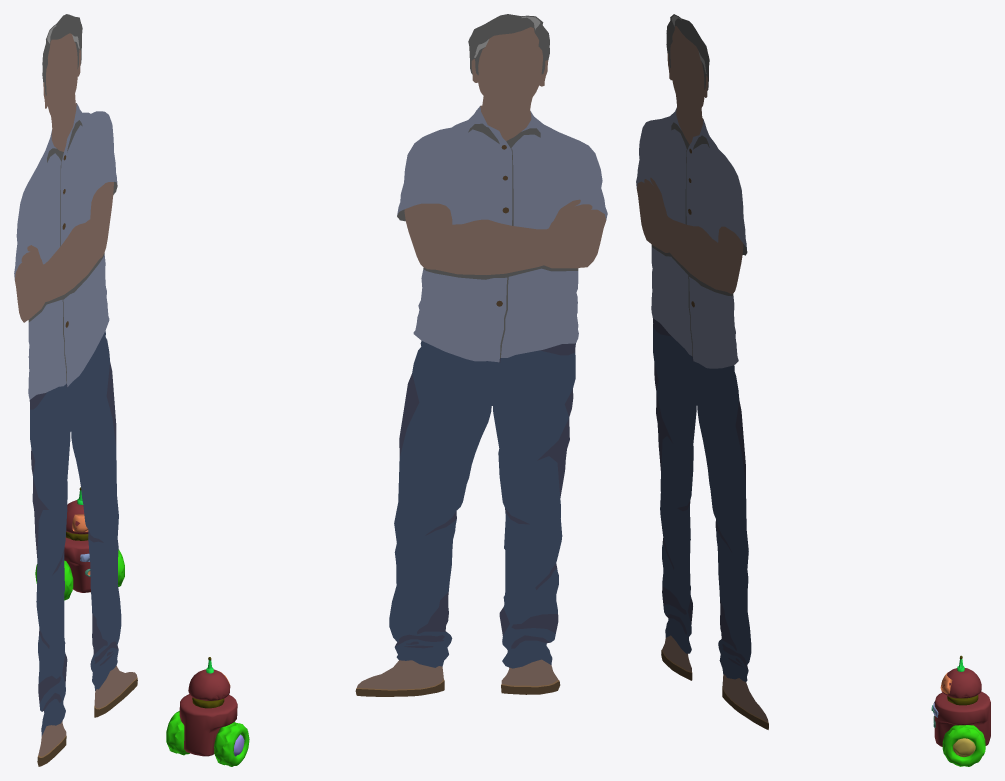
File: Robot.obj
3 views of the same model, side by side, from view 1: azimuth 30°, elevation 25°; view 2: azimuth 150°, elevation 25°; view 3: azimuth 270°, elevation 25° (orthographic). The views are drawn at different scales.
Parts seen in each view (by area): view 1: Mesh1 Niraj1 Model, Mesh9 mesh_0_1 Robot_obj1 Model, Mesh16 mesh_0_1 Robot_obj1 Model, Mesh7 mesh_0_1 Robot_obj1 Model; view 2: Mesh1 Niraj1 Model, Mesh9 mesh_0_1 Robot_obj1 Model, Mesh7 mesh_0_1 Robot_obj1 Model, Mesh16 mesh_0_1 Robot_obj1 Model; view 3: Mesh1 Niraj1 Model, Mesh9 mesh_0_1 Robot_obj1 Model, Mesh8 mesh_0_1 Robot_obj1 Model, Mesh16 mesh_0_1 Robot_obj1 Model.
Part boxes in pixels (x1,y1,x2,y2): Mesh1 Niraj1 Model: (14, 14, 137, 766); Mesh9 mesh_0_1 Robot_obj1 Model: (64, 537, 90, 592); Mesh16 mesh_0_1 Robot_obj1 Model: (66, 500, 88, 534); Mesh7 mesh_0_1 Robot_obj1 Model: (35, 560, 73, 600); Mesh1 Niraj1 Model: (355, 14, 607, 696); Mesh9 mesh_0_1 Robot_obj1 Model: (179, 694, 237, 756); Mesh7 mesh_0_1 Robot_obj1 Model: (214, 722, 249, 766); Mesh16 mesh_0_1 Robot_obj1 Model: (188, 669, 230, 700); Mesh1 Niraj1 Model: (636, 14, 768, 729); Mesh9 mesh_0_1 Robot_obj1 Model: (934, 691, 990, 746); Mesh8 mesh_0_1 Robot_obj1 Model: (942, 725, 985, 766); Mesh16 mesh_0_1 Robot_obj1 Model: (941, 668, 981, 698).
Bounding box in the file's own units: 28.54 × 70.5 × 34.34.
